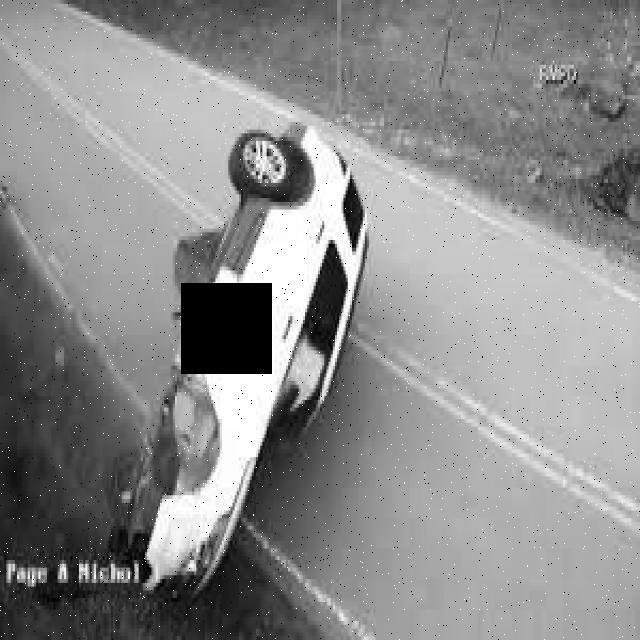severe: (102, 106, 376, 594)
